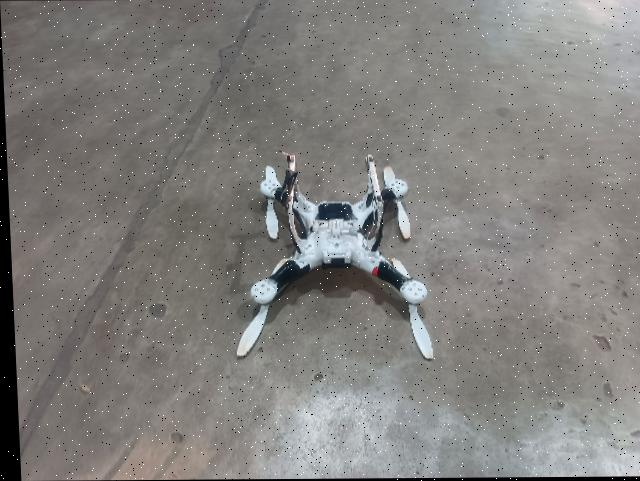drone: (208, 142, 473, 382)
